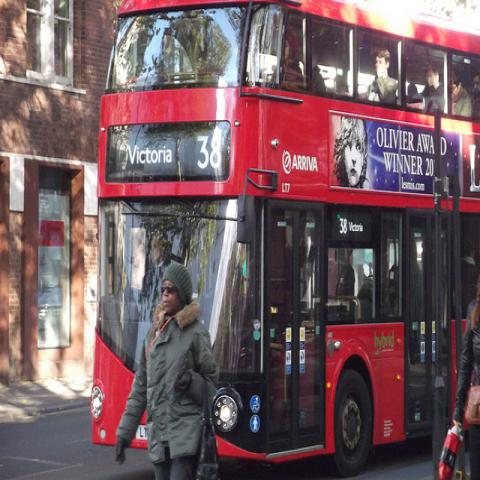bus: (90, 0, 480, 475)
